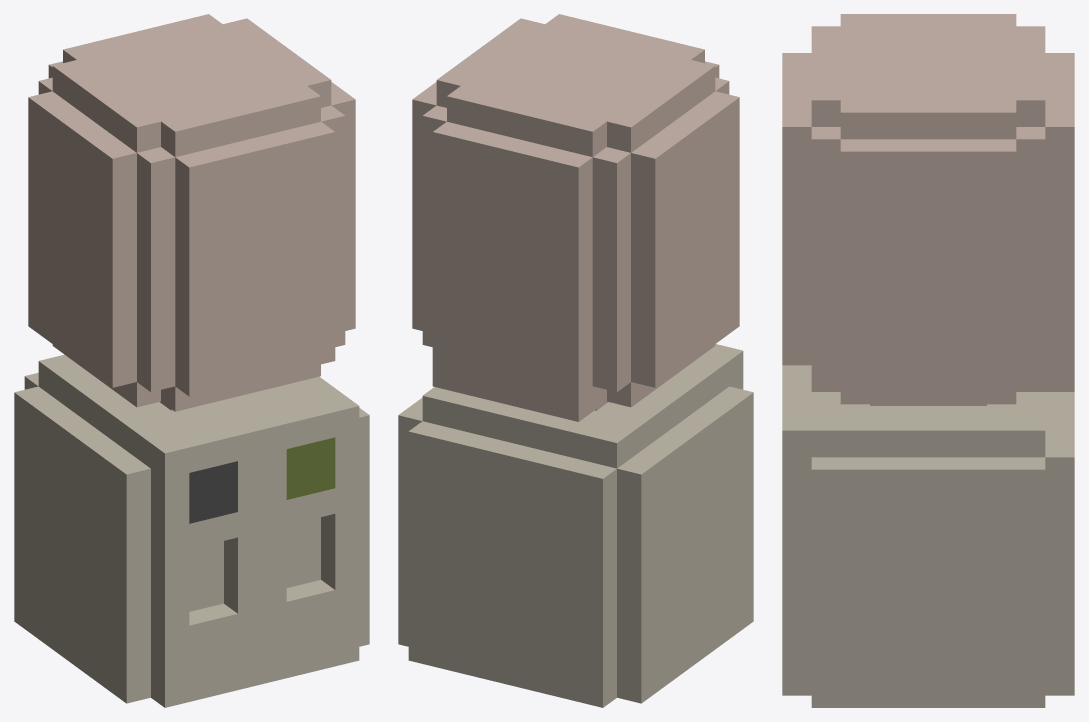
File: Boiler.obj
3 views of the same model, side by side, from view 1: azimuth 30°, elevation 25°; view 2: azimuth 150°, elevation 25°; view 3: azimuth 270°, elevation 25° (orthographic). The views are drawn at different scales.
Bounding box in the file's own units: 1 × 2.2 × 1.
